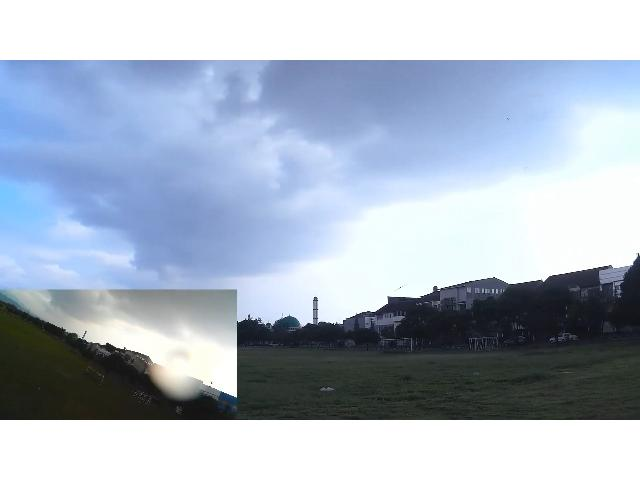Anti-Drone: (388, 280, 414, 296)
